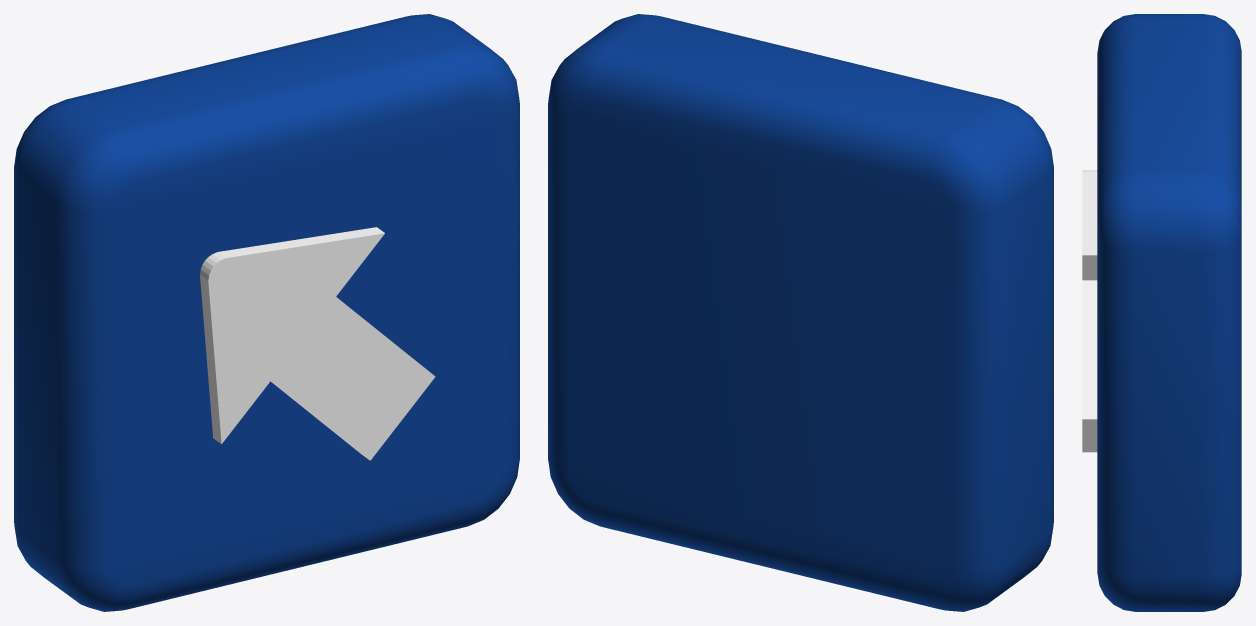
File: up_left_arrow.glb
3 views of the same model, side by side, from view 1: azimuth 30°, elevation 25°; view 2: azimuth 150°, elevation 25°; view 3: azimuth 270°, elevation 25° (orthographic). The views are drawn at different scales.
Visible parts, largest first — view 1: Cube.6326; view 2: Cube.6326; view 3: Cube.6326.
Boxes of the visible parts, bbox=[...] form: Cube.6326: bbox=[14, 14, 519, 611]; Cube.6326: bbox=[548, 14, 1053, 611]; Cube.6326: bbox=[1082, 14, 1241, 611].
Size of the model in its own units: 2.2 by 2.2 by 0.73.
1 material, 1 textured.
